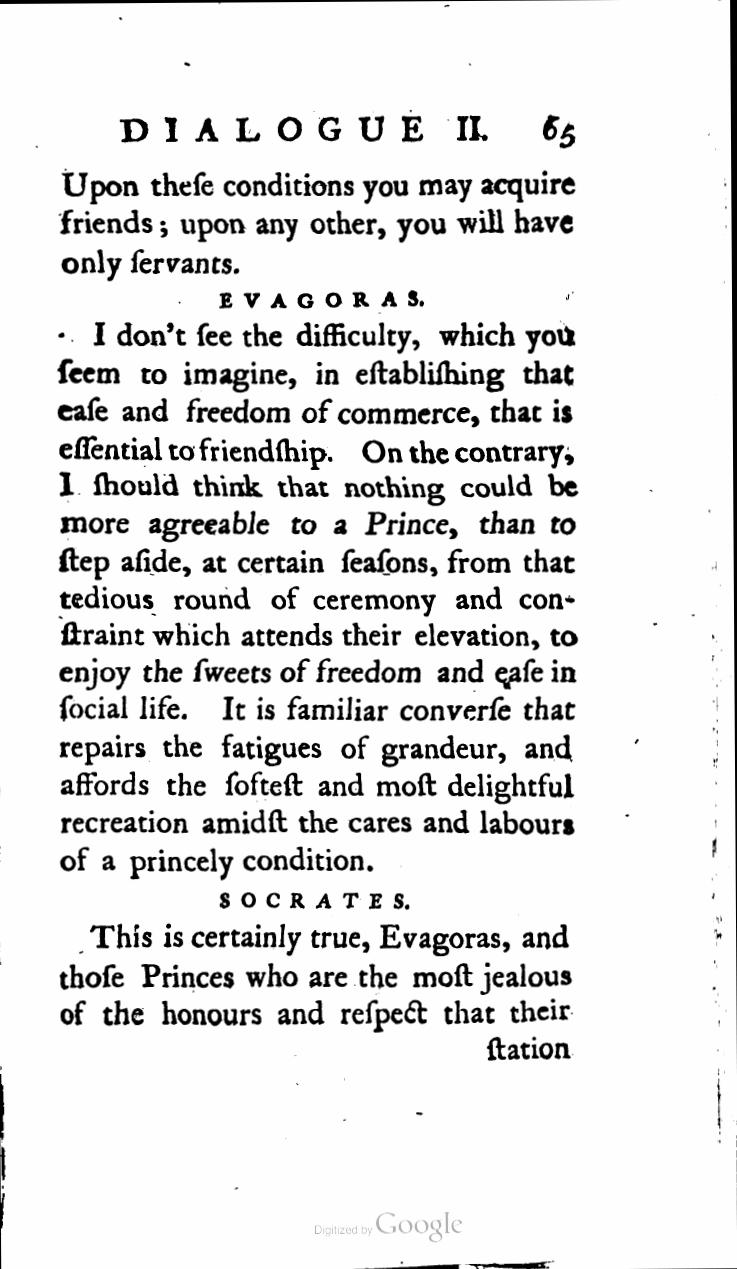catchword: (483, 1033, 574, 1063)
full_p: (55, 317, 582, 883), (57, 168, 579, 282), (213, 887, 414, 914), (213, 288, 428, 313)
header: (115, 110, 490, 147)
page_num: (537, 110, 579, 154)
top_p: (55, 920, 576, 1036)
